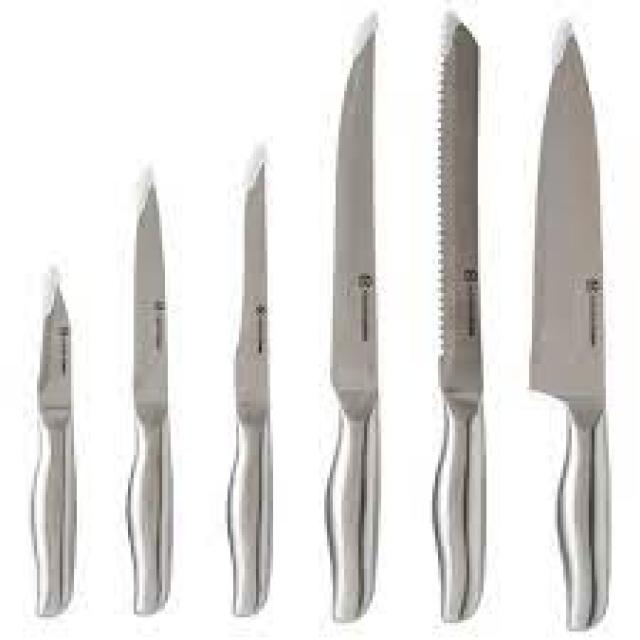Knife: (285, 0, 519, 633)
